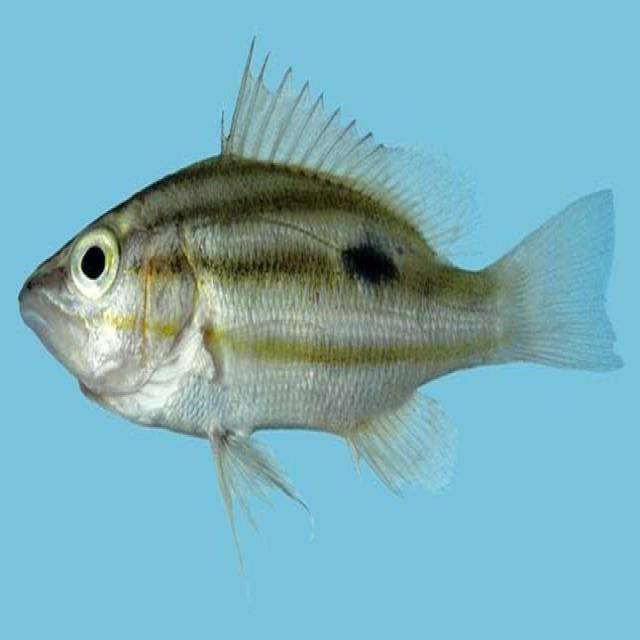ikan: (17, 32, 624, 579)
